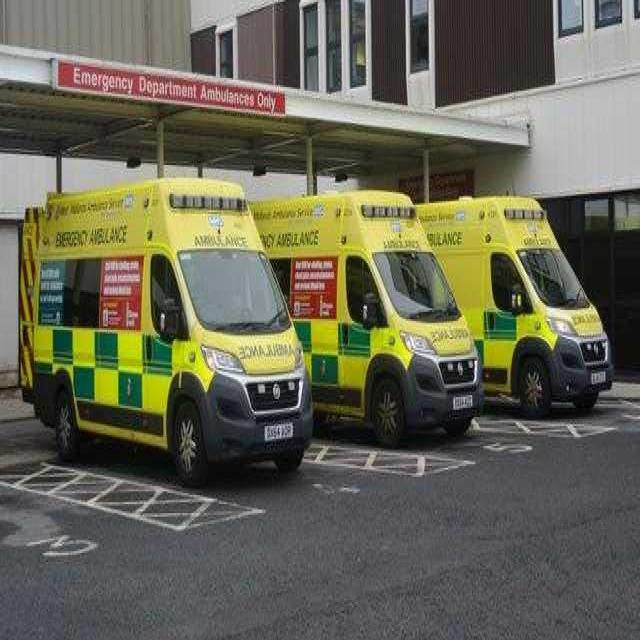ambulance: (13, 187, 314, 494), (250, 202, 500, 448), (415, 184, 616, 426)
